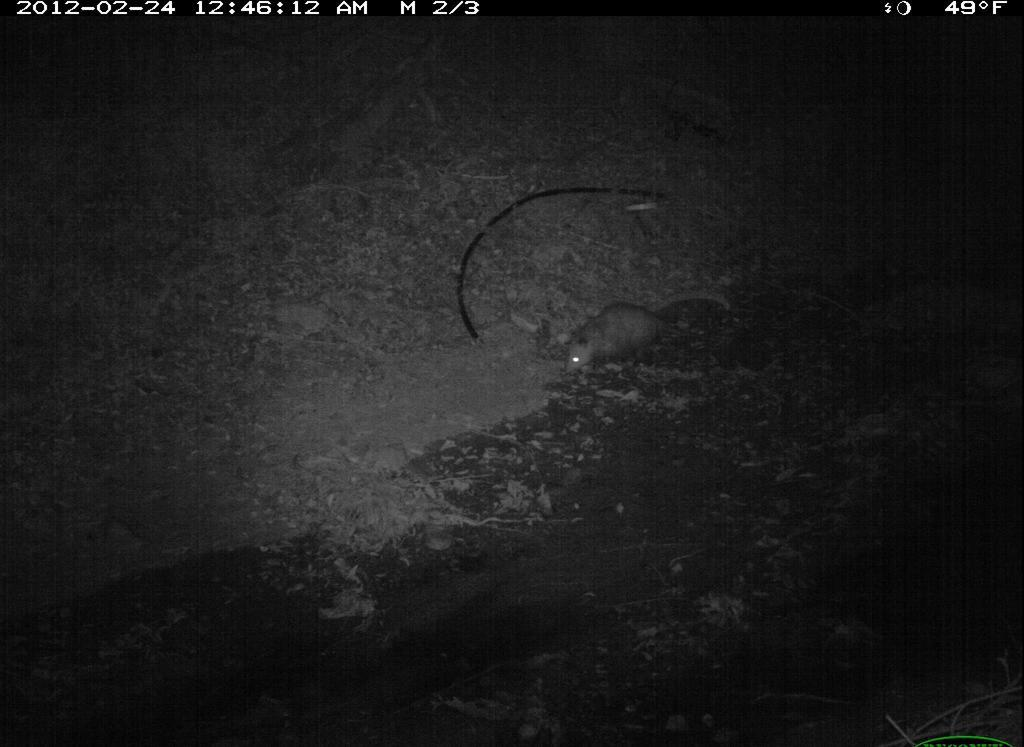opossum: (551, 287, 737, 385)
